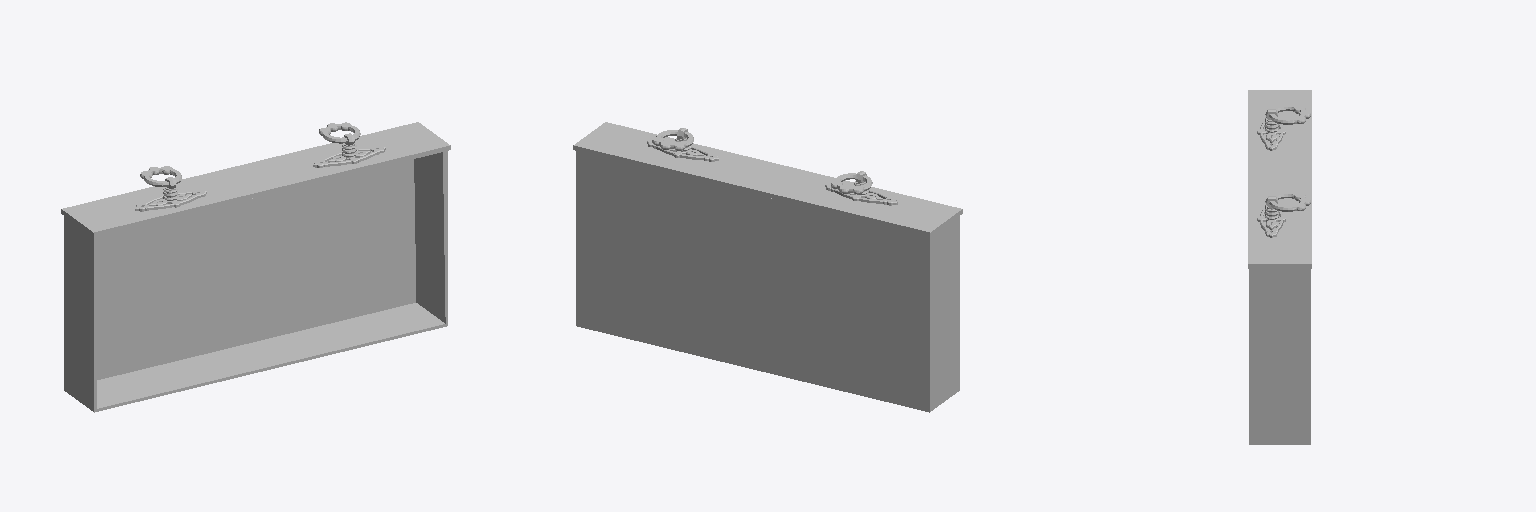
The model's file is f_Drawer.obj.
3 renders of one model, left to right at view 1: azimuth 30°, elevation 25°; view 2: azimuth 150°, elevation 25°; view 3: azimuth 270°, elevation 25°, orthographic.
Parts seen in each view (by area): view 1: Drawer_2; view 2: Drawer_2; view 3: Drawer_2.
Boxes of the visible parts, box(x1,y1,x2,y2) form: Drawer_2: box(61, 122, 450, 412); Drawer_2: box(573, 122, 962, 412); Drawer_2: box(1248, 90, 1311, 444).
Bounding box in the file's own units: 3.18 × 1.74 × 0.4973.